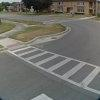Crosswalk: (7, 39, 94, 87)
